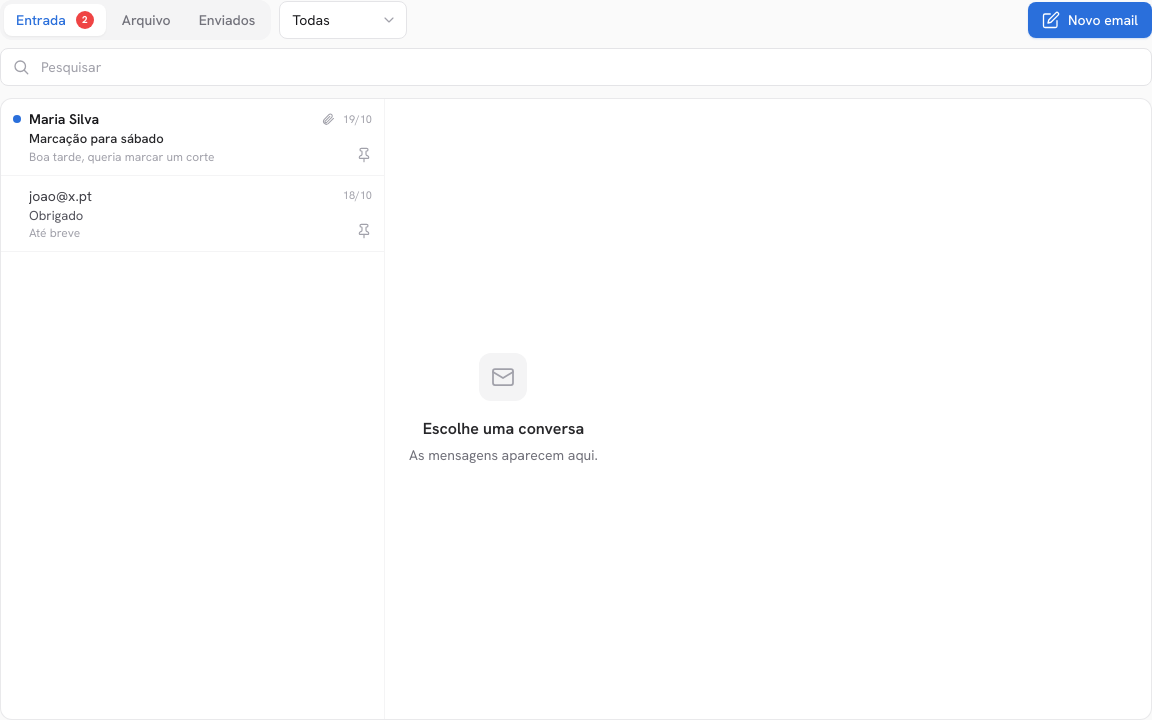
it: Correio → Caixa — compositor › Novo email sem destinatário não envia e diz porquê
Click the button "Novo email".
click(1090, 20)  # box [1028,2,1151,38]
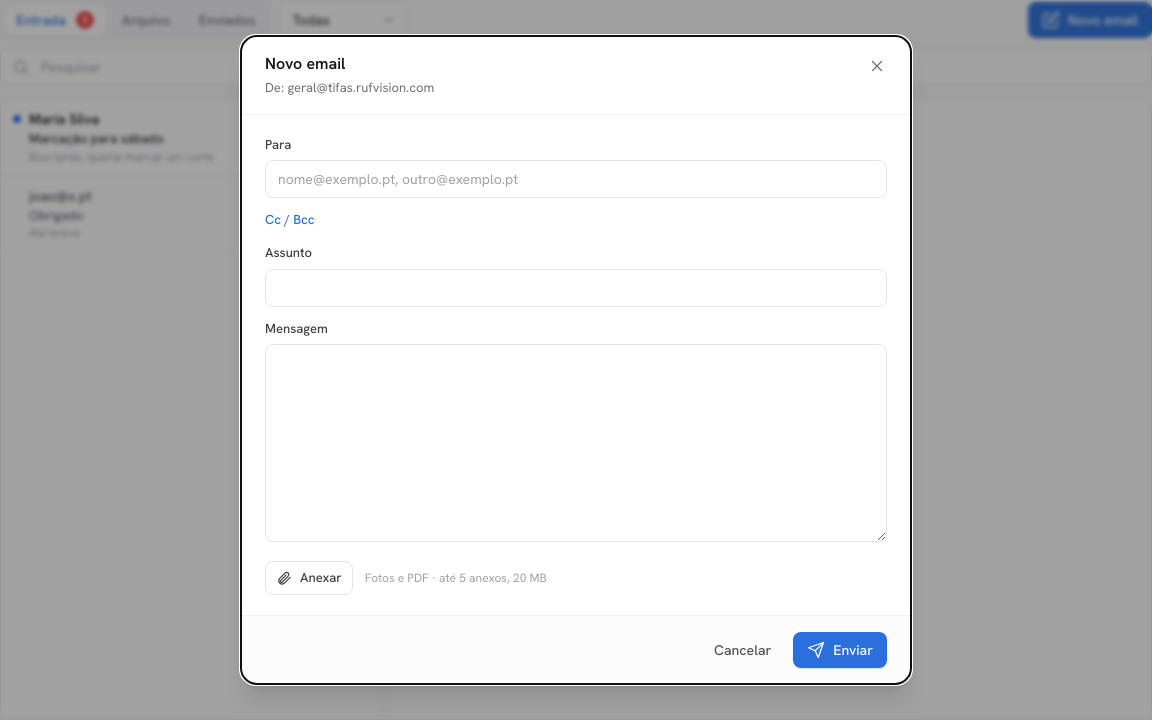
Type "Olá" into the text box labelled "Mensagem".
click(576, 443); type("Olá")  # box [265,344,887,542]
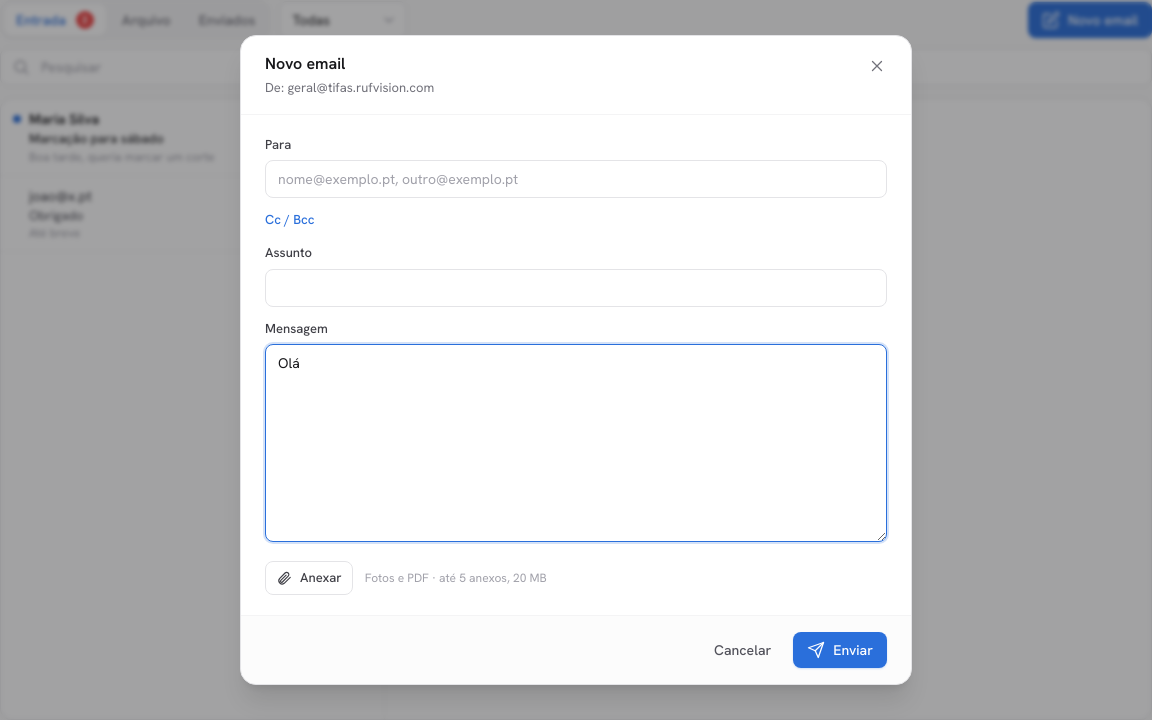
Click the button "Enviar".
click(840, 650)  # box [793,632,887,668]
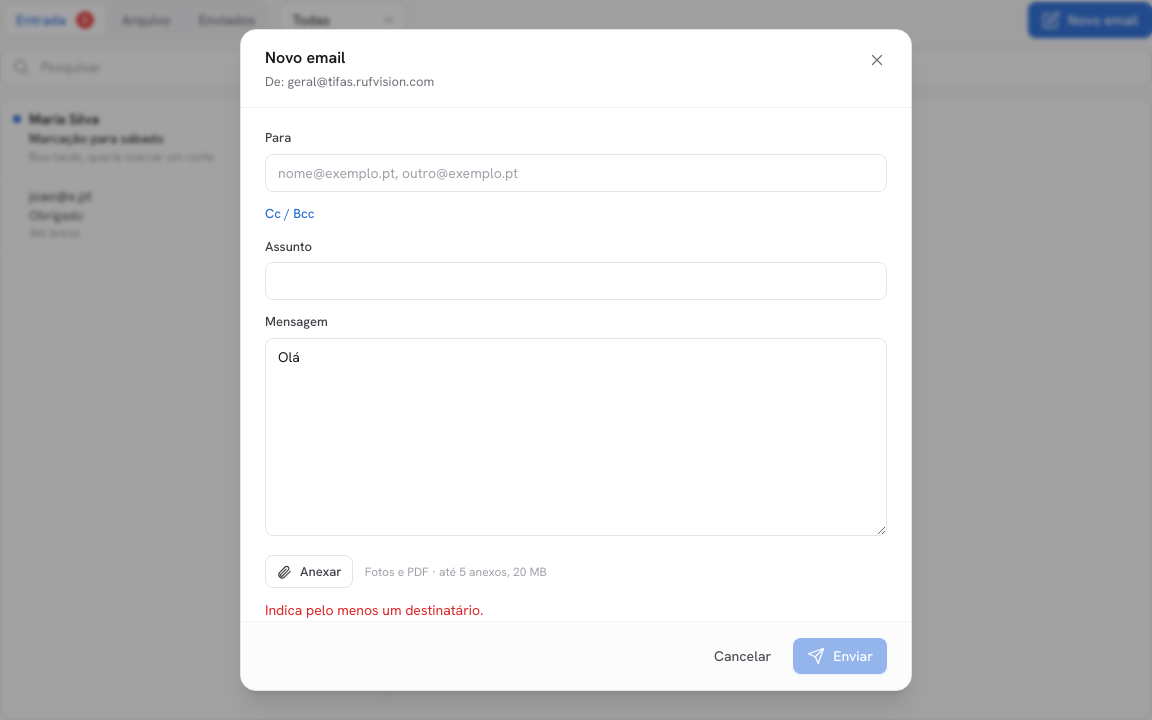
Expected: the message shows "pelo menos um destinatário", [265,601,483,619]
